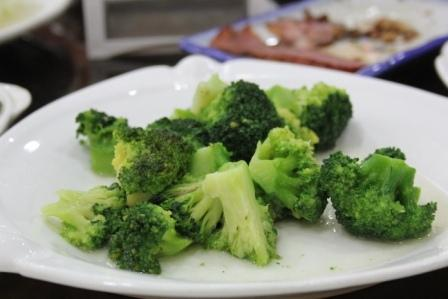broccoli: (320, 146, 438, 241), (202, 160, 282, 266), (111, 116, 198, 208), (196, 79, 285, 167), (249, 125, 328, 222), (106, 202, 196, 274), (40, 181, 129, 252), (264, 82, 352, 152), (148, 173, 223, 250), (76, 108, 128, 178), (189, 72, 229, 116), (276, 106, 320, 144), (188, 142, 233, 178)
